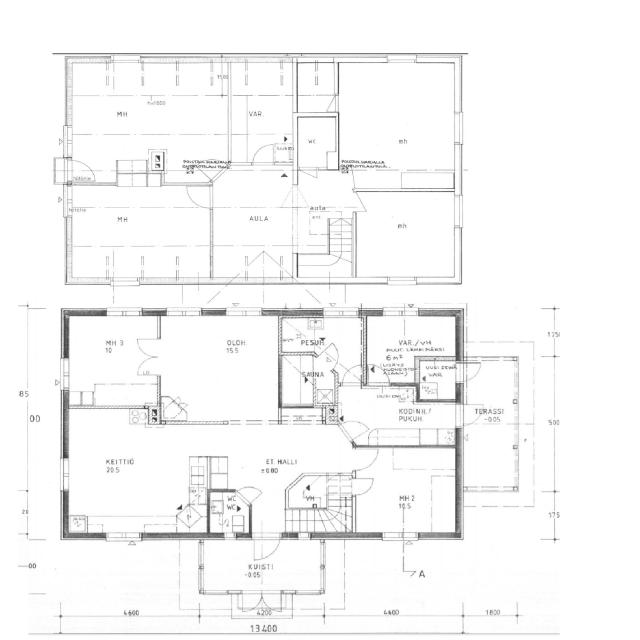door: (132, 334, 162, 380), (250, 530, 283, 562), (67, 157, 98, 184), (350, 445, 381, 472), (454, 402, 484, 428), (184, 182, 212, 209), (342, 419, 373, 442), (250, 141, 277, 167), (364, 363, 391, 388), (350, 475, 376, 497), (238, 485, 265, 504), (340, 364, 363, 386), (461, 360, 484, 382), (324, 93, 340, 113), (298, 165, 320, 179)
window: (449, 192, 466, 232), (57, 454, 73, 496), (102, 530, 145, 545), (449, 109, 466, 146), (57, 354, 72, 394), (58, 124, 74, 160), (102, 306, 146, 319), (59, 183, 73, 220), (162, 306, 204, 318), (222, 307, 264, 318), (417, 531, 455, 543), (383, 275, 420, 287), (320, 307, 360, 318), (379, 307, 420, 317), (378, 530, 411, 542), (220, 531, 238, 541), (295, 531, 313, 541)
zone: (68, 61, 297, 161), (61, 413, 200, 536), (68, 184, 215, 285), (335, 57, 459, 174), (157, 314, 280, 424), (352, 188, 458, 282), (352, 444, 459, 536), (65, 312, 162, 408), (464, 353, 519, 496), (339, 387, 459, 447), (363, 314, 458, 380), (279, 316, 364, 366), (214, 206, 296, 247), (295, 114, 339, 169), (280, 352, 320, 408), (294, 61, 336, 113), (207, 490, 250, 536), (416, 358, 460, 402), (286, 472, 327, 509)
